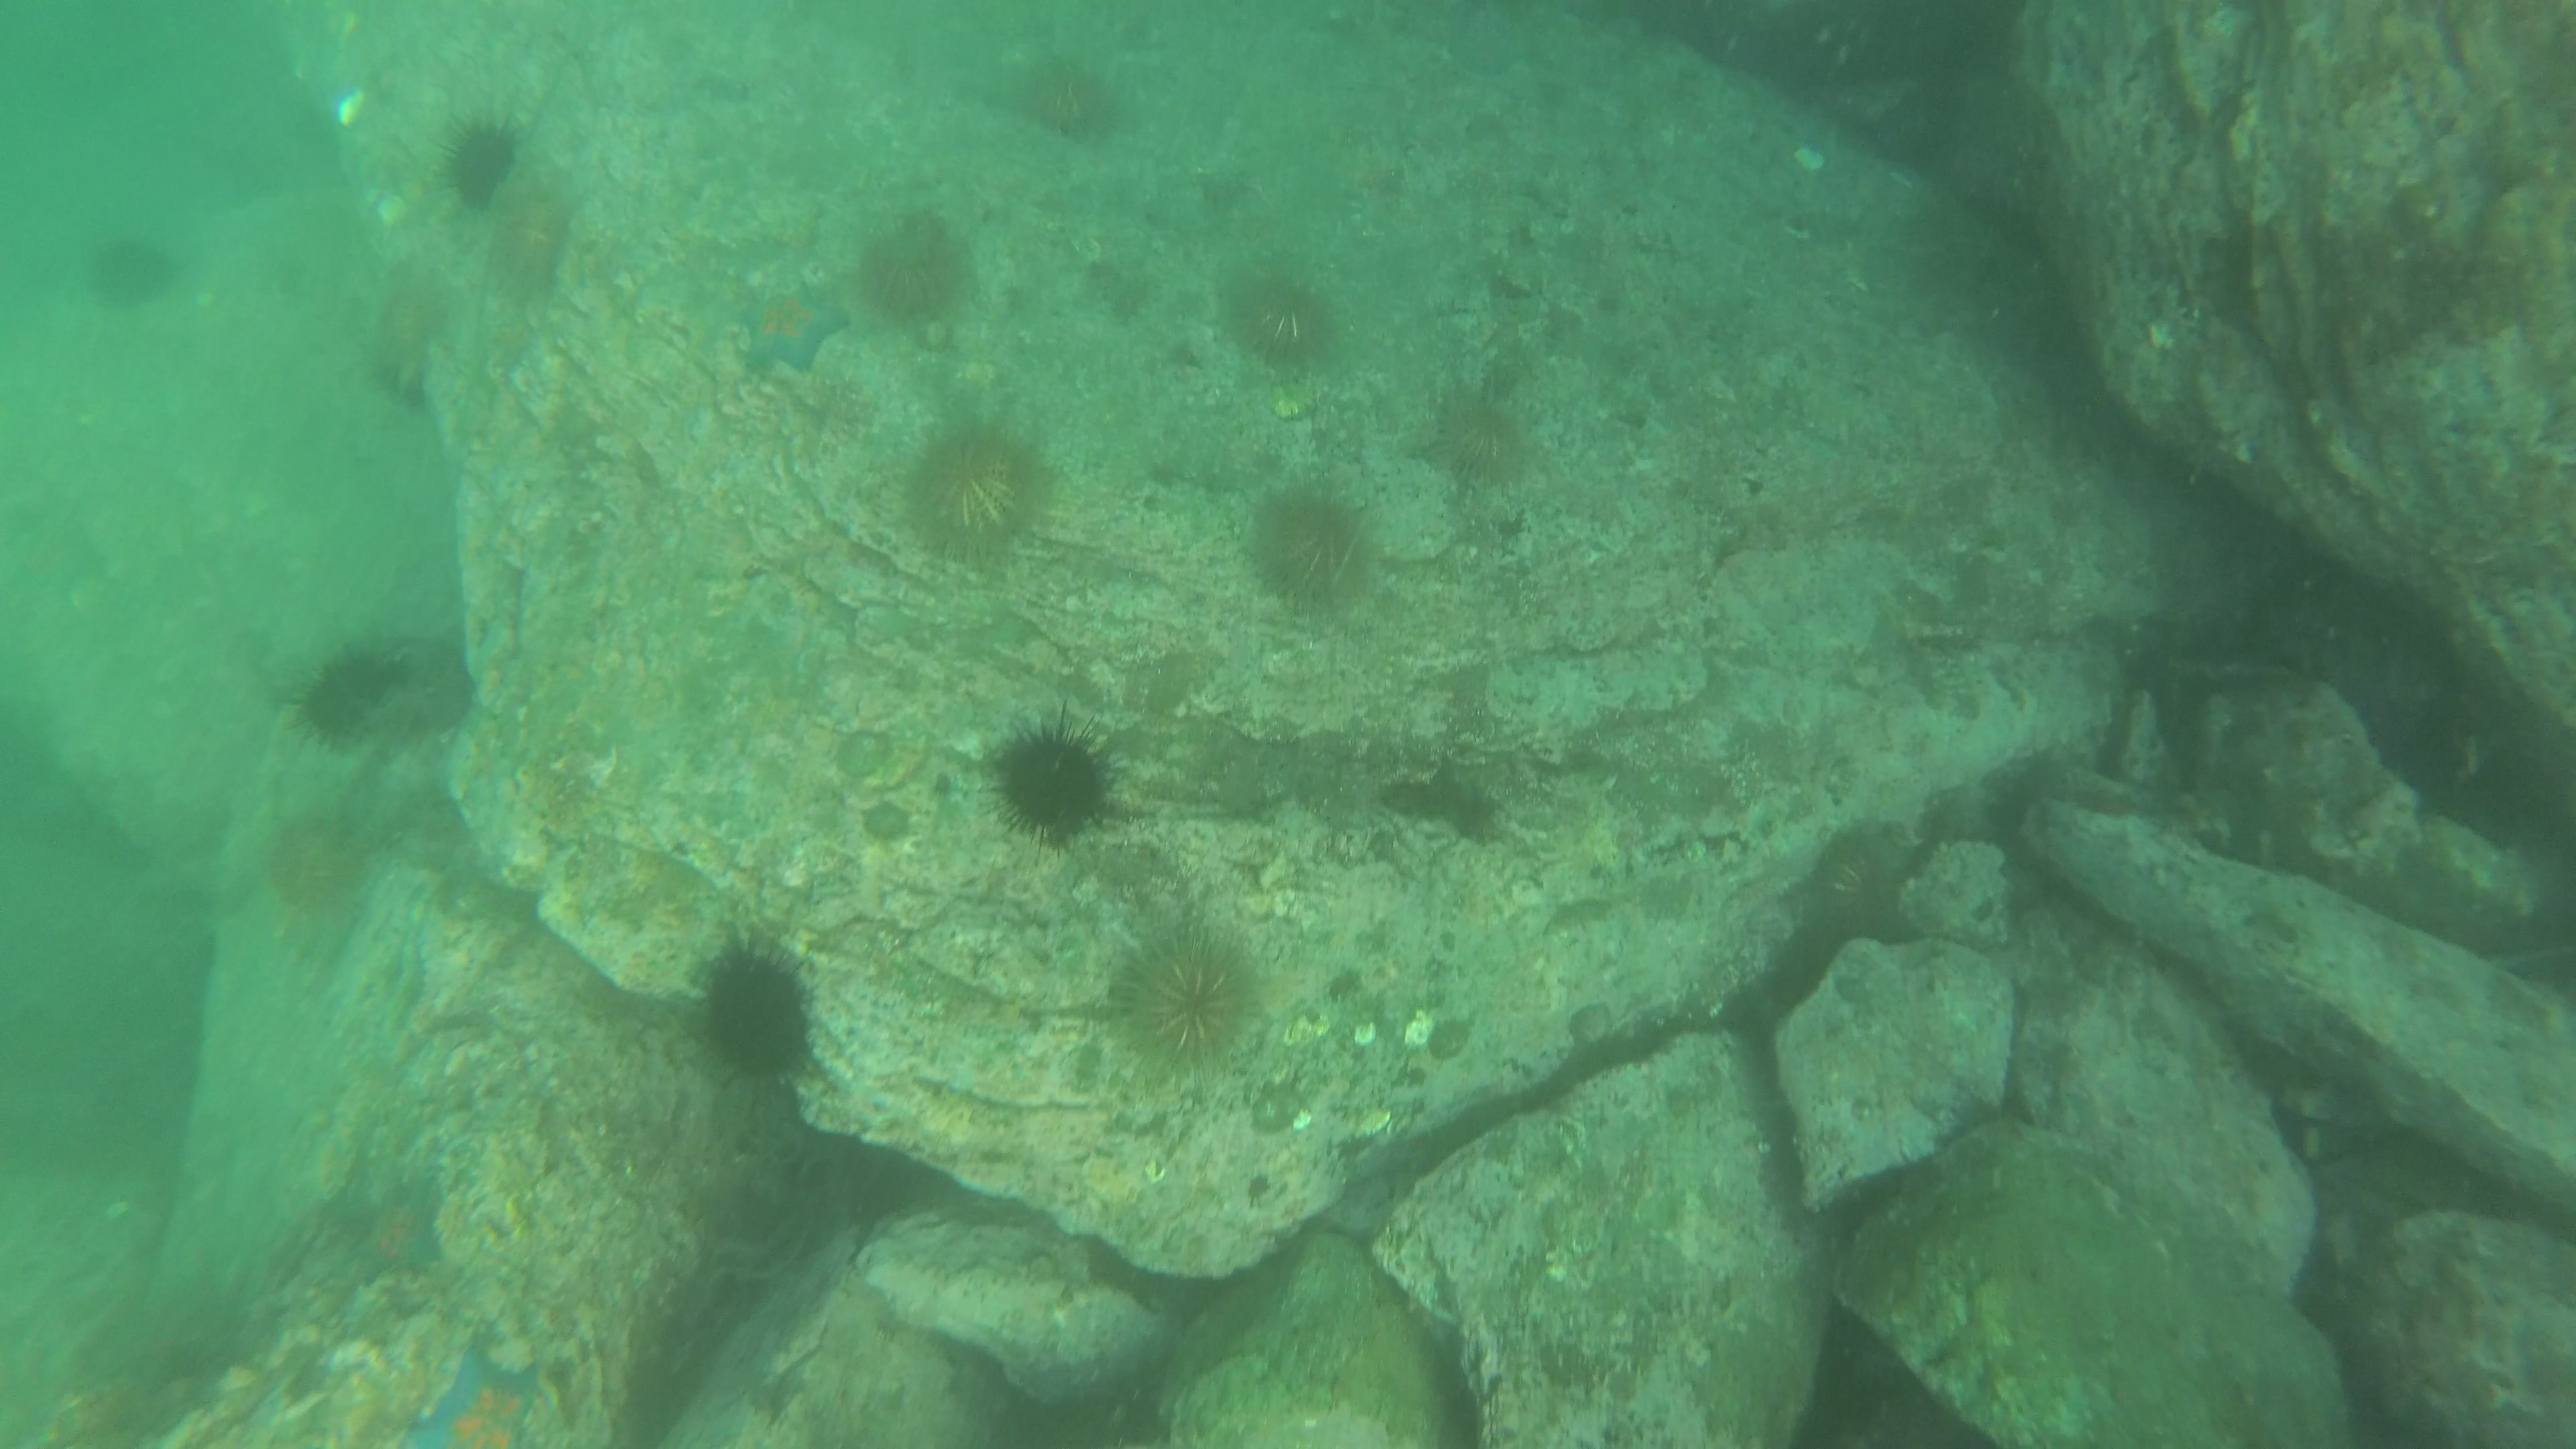echinus: (1125, 924, 1265, 1069), (1249, 497, 1376, 619), (701, 943, 823, 1069), (913, 419, 1021, 557), (1001, 715, 1104, 855), (863, 214, 984, 329), (255, 810, 361, 908), (297, 653, 403, 747), (1235, 264, 1330, 366), (1430, 389, 1532, 479), (354, 283, 439, 372), (1021, 69, 1120, 142), (487, 203, 566, 292), (81, 241, 184, 308), (444, 117, 510, 214)
starfish: (416, 1339, 540, 1442), (738, 274, 856, 380), (341, 1196, 442, 1270)
